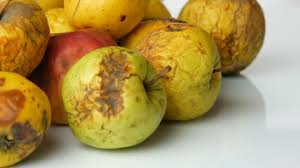damaged_apple: (63, 48, 167, 156), (122, 21, 218, 119), (179, 2, 268, 75), (1, 72, 59, 167), (1, 3, 54, 73)
